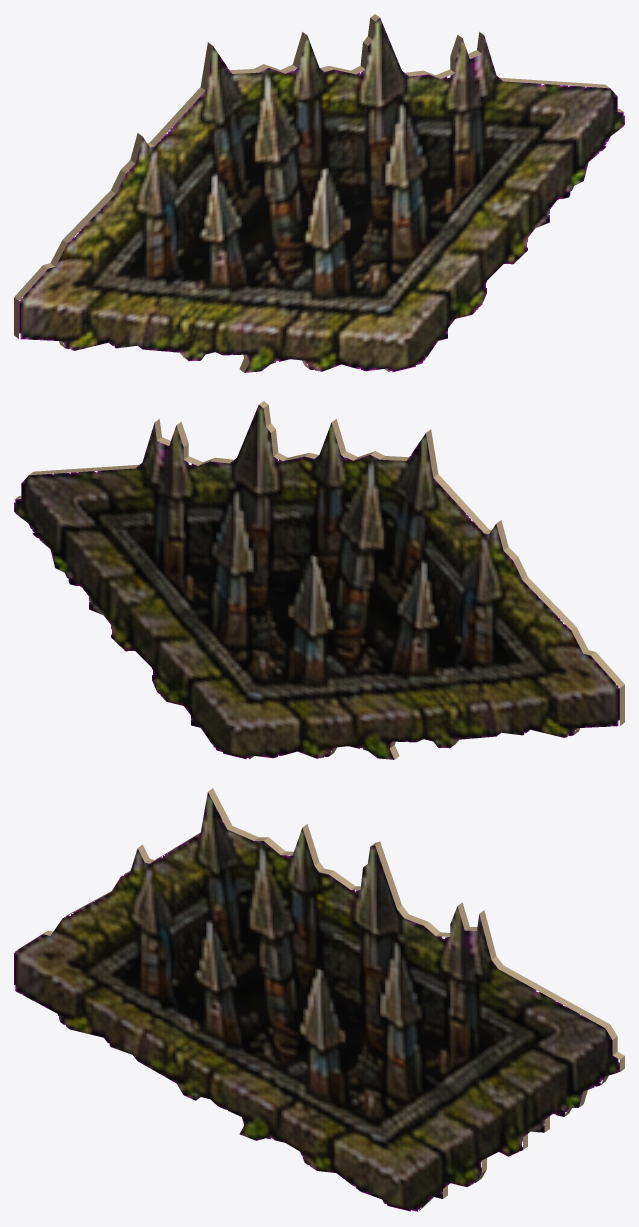
File: fantasy-obj-trap-sprung.glb
3 renders of one model, top to bottom at view 1: azimuth 30°, elevation 25°; view 2: azimuth 150°, elevation 25°; view 3: azimuth 330°, elevation 25°, orthographic.
Visible parts, largest first — view 1: painted-faces, side-shell; view 2: painted-faces, side-shell; view 3: painted-faces, side-shell.
Boxes of the visible parts, left/top/right/bottom form: painted-faces: left=19, top=18, right=624, bottom=372; side-shell: left=14, top=14, right=624, bottom=372; painted-faces: left=14, top=405, right=619, bottom=759; side-shell: left=14, top=401, right=624, bottom=759; painted-faces: left=14, top=792, right=619, bottom=1211; side-shell: left=15, top=788, right=624, bottom=1211.
Bounding box in the file's own units: 1.71 × 1 × 0.025.
2 materials, 1 textured.
